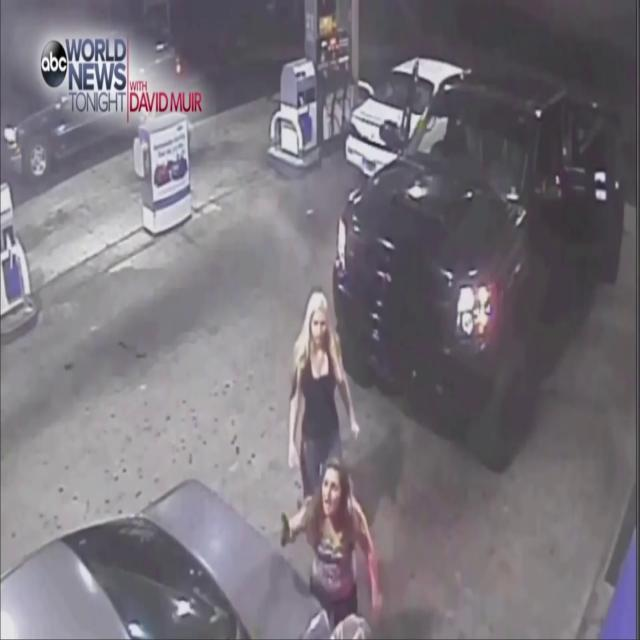gun: (278, 512, 291, 550)
